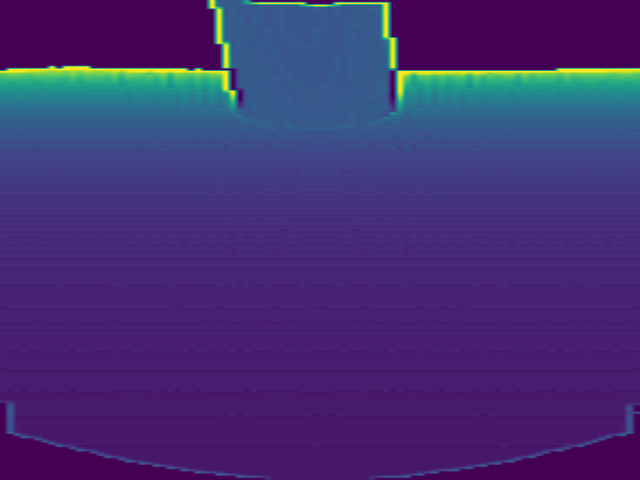cylinder: (208, 1, 399, 128)
